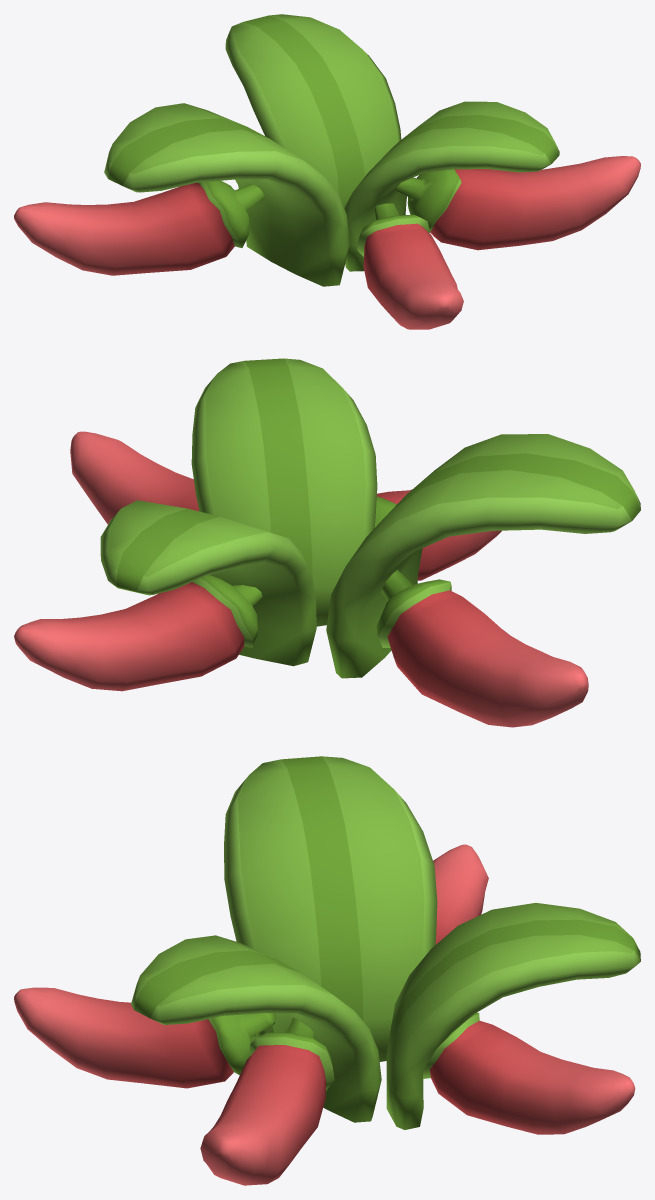
Rendered from pipper.fbx.
3 views of the same model, one above another, from view 1: azimuth 30°, elevation 25°; view 2: azimuth 150°, elevation 25°; view 3: azimuth 270°, elevation 25° (orthographic). The views are drawn at different scales.
Parts seen in each view (by area): view 1: pipper; view 2: pipper; view 3: pipper.
Part boxes in pixels (bbox=[...]): pipper: bbox=[14, 14, 640, 329]; pipper: bbox=[14, 358, 640, 727]; pipper: bbox=[14, 756, 640, 1185].
Size of the model in its own units: 160 by 50.2 by 140.
1 material, 1 textured.
